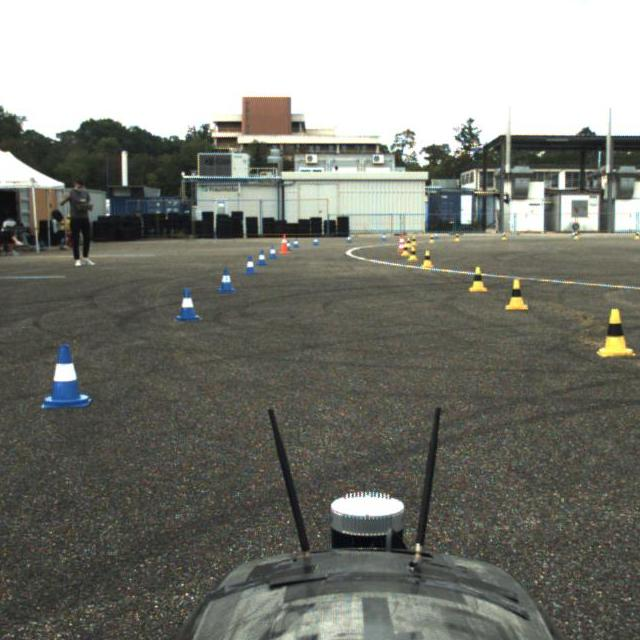NO-Hardhat: (75, 177, 86, 184), (17, 222, 23, 229), (6, 214, 12, 220)
NO-Safety Vest: (75, 191, 91, 217)
Person: (68, 176, 95, 268), (0, 210, 16, 255), (12, 221, 30, 246), (57, 218, 66, 249), (1, 215, 15, 231)
Safety Cone: (41, 344, 92, 408), (597, 308, 636, 357), (174, 288, 200, 321), (505, 279, 528, 310), (469, 266, 488, 292), (217, 269, 236, 292), (244, 256, 257, 274), (279, 234, 290, 254), (422, 250, 434, 268), (257, 250, 267, 266), (408, 246, 418, 261), (268, 245, 278, 259), (397, 234, 404, 253), (401, 244, 410, 256), (312, 236, 320, 245), (573, 230, 580, 240), (293, 238, 300, 247), (346, 234, 353, 243), (501, 231, 508, 240), (287, 239, 292, 251), (634, 230, 640, 240), (412, 235, 417, 246), (429, 234, 435, 243), (454, 233, 460, 242), (59, 220, 65, 229), (66, 213, 71, 223), (381, 233, 387, 241), (407, 237, 411, 247)
vehicle: (0, 402, 640, 640)
